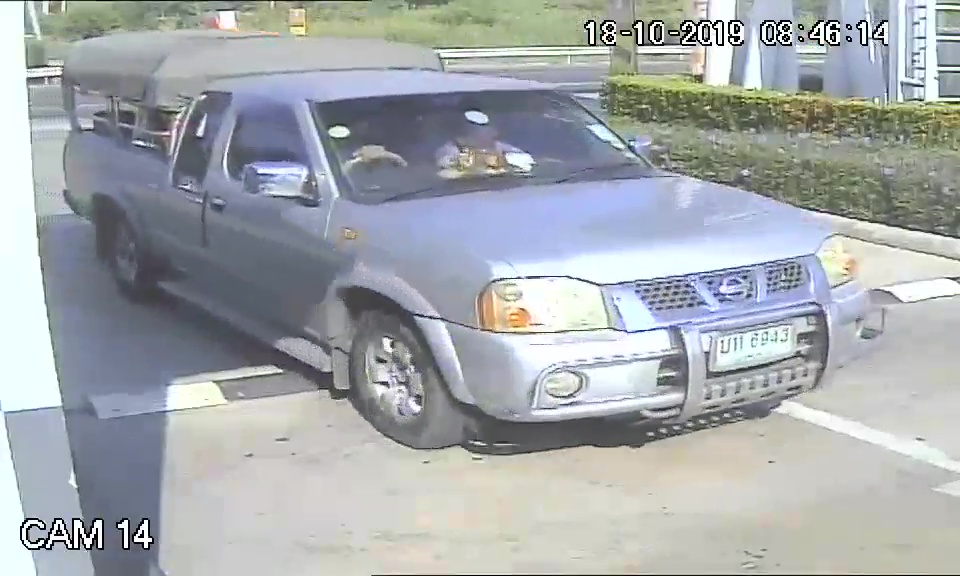pickup: (55, 26, 891, 453)
